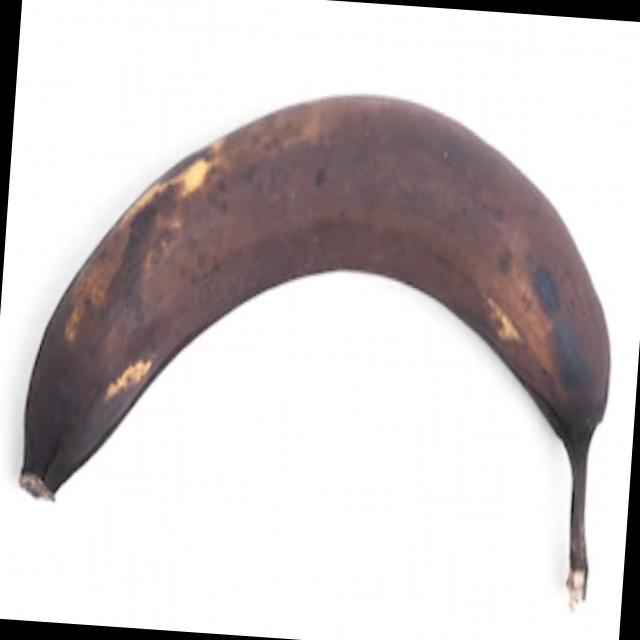rotten-banana: (11, 69, 628, 618)
